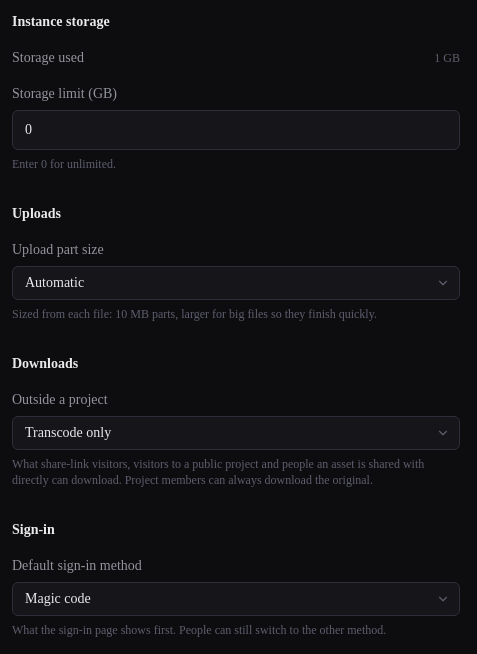
InstanceSettingsTab › storage limit › makes no PUT while typing, and exactly one on blur
Replace the text in the number field labelled "Storage limit (GB)" with "1": (236, 130) [12,110,460,150]
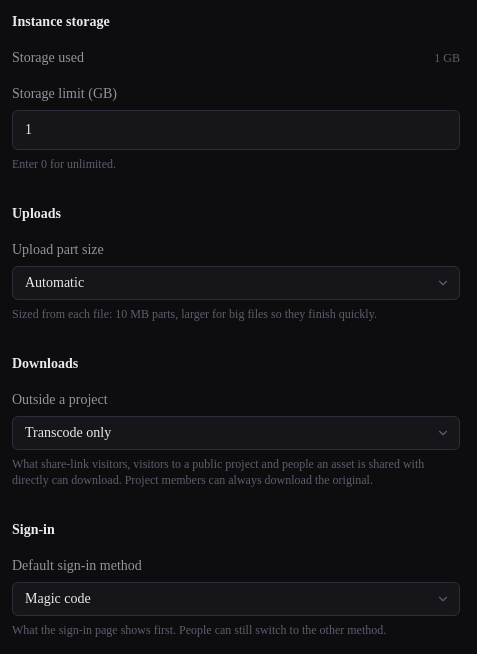
Replace the text in the number field labelled "Storage limit (GB)" with "10": (236, 130) [12,110,460,150]
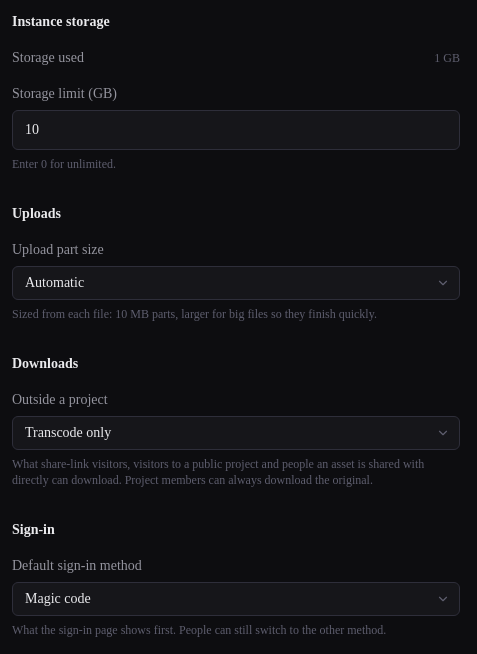
Replace the text in the number field labelled "Storage limit (GB)" with "100": (236, 130) [12,110,460,150]
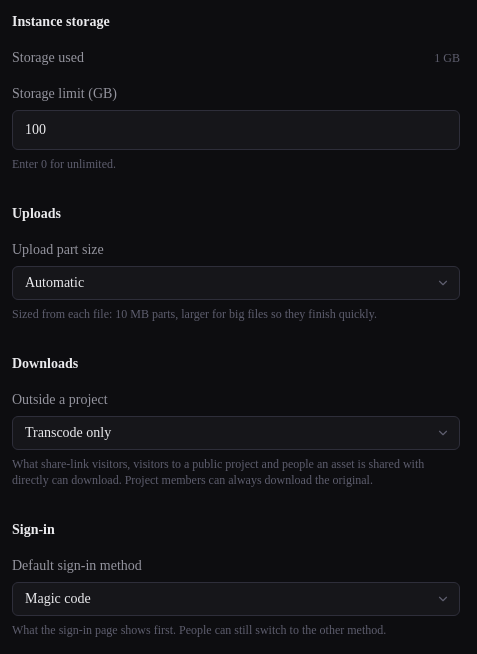
Leave the number field labelled "Storage limit (GB)", box [12,110,460,150]
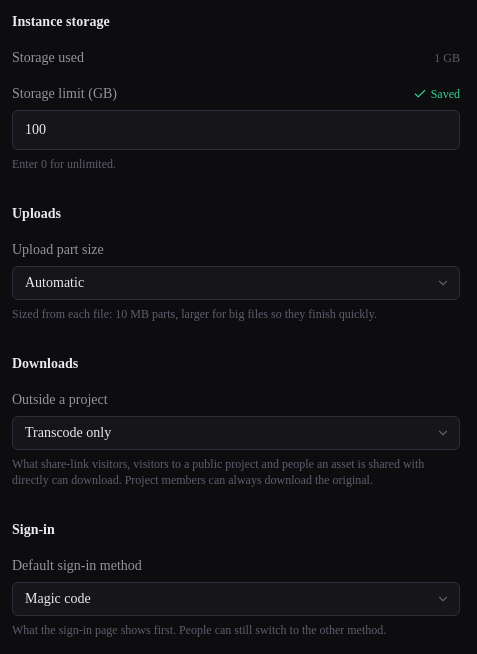
Now the text "Saved" is shown, box [413,86,460,102]
